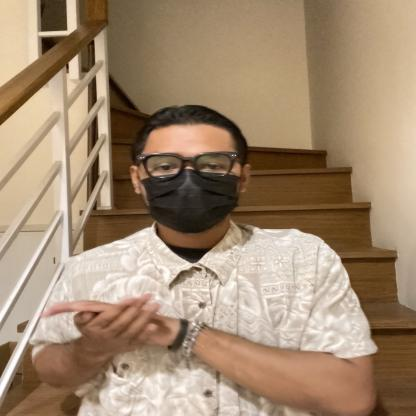Love: (32, 264, 274, 374)
